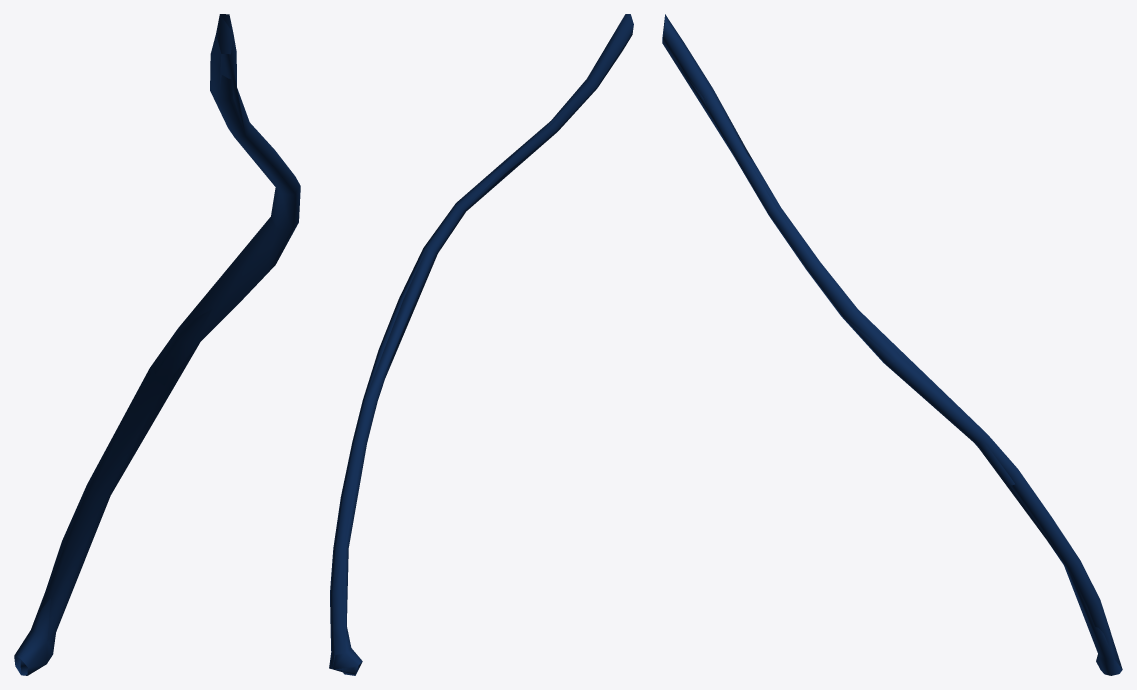
File: R vena saphena medialis.fbx
3 views of the same model, side by side, from view 1: azimuth 30°, elevation 25°; view 2: azimuth 150°, elevation 25°; view 3: azimuth 270°, elevation 25° (orthographic). The views are drawn at different scales.
Visible parts, largest first — view 1: R vena saphena medialis low, R vena saphena medialis; view 2: R vena saphena medialis, R vena saphena medialis low; view 3: R vena saphena medialis, R vena saphena medialis low.
Boxes of the visible parts, x1,y1,x2,y2 form: R vena saphena medialis low: [14, 14, 300, 674]; R vena saphena medialis: [14, 14, 300, 675]; R vena saphena medialis: [329, 14, 633, 675]; R vena saphena medialis low: [331, 16, 629, 675]; R vena saphena medialis: [662, 14, 1122, 675]; R vena saphena medialis low: [662, 17, 1122, 675].
Bounding box in the file's own units: 6.09 × 23.54 × 16.06.
